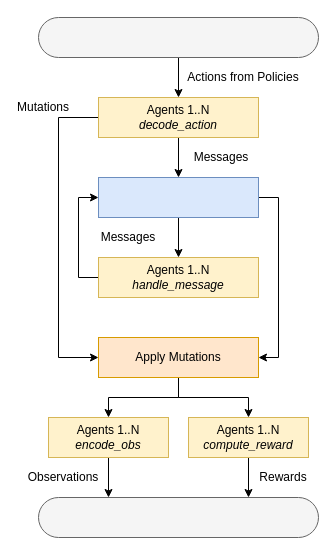
Some shapes in this 336 by 555 pixel diagram are drawn without their labels. Each missing label, with the centre of its shape:
End of Step: the point at 178,517
Message Resolver: the point at 178,197
Start of Step: the point at 178,37
